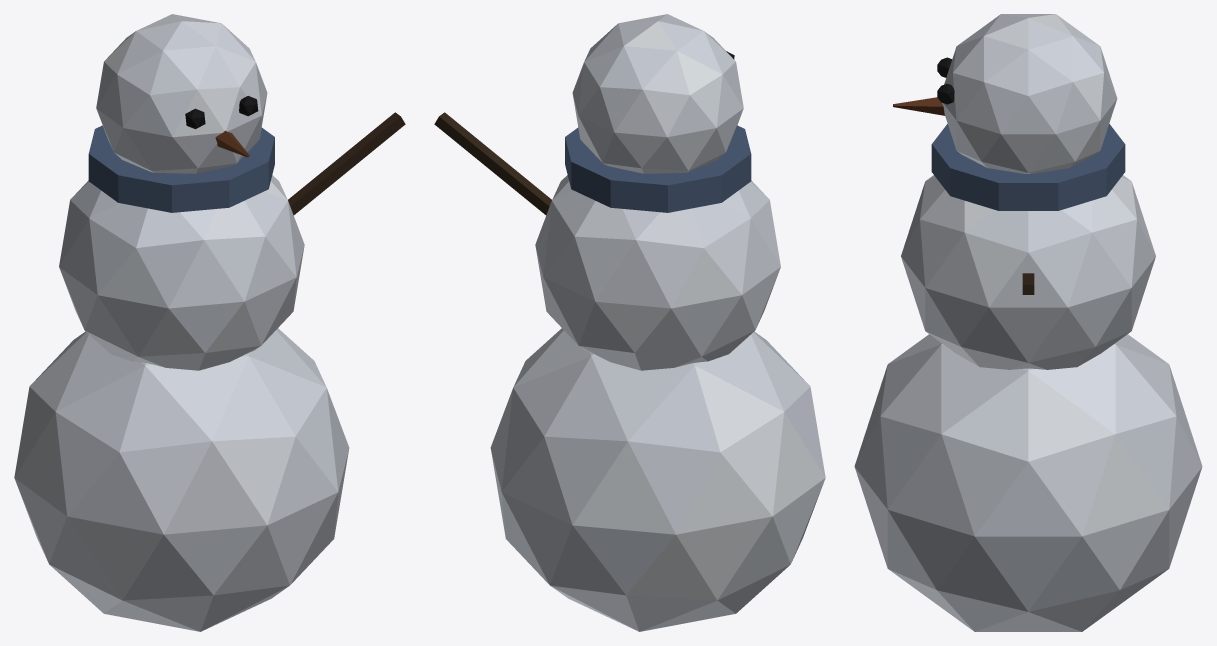
File: village_snowman.glb
The picture shows the model from 3 angles, left to right: view 1: azimuth 30°, elevation 25°; view 2: azimuth 150°, elevation 25°; view 3: azimuth 270°, elevation 25°; orthographic projection.
Visible parts, largest first — view 1: village_snowman; view 2: village_snowman; view 3: village_snowman.
Part boxes in pixels (x1,y1,x2,y2): village_snowman: (14,14,405,631); village_snowman: (434,14,825,631); village_snowman: (854,14,1202,631).
Bounding box in the file's own units: 1.1 × 1.73 × 0.9.
